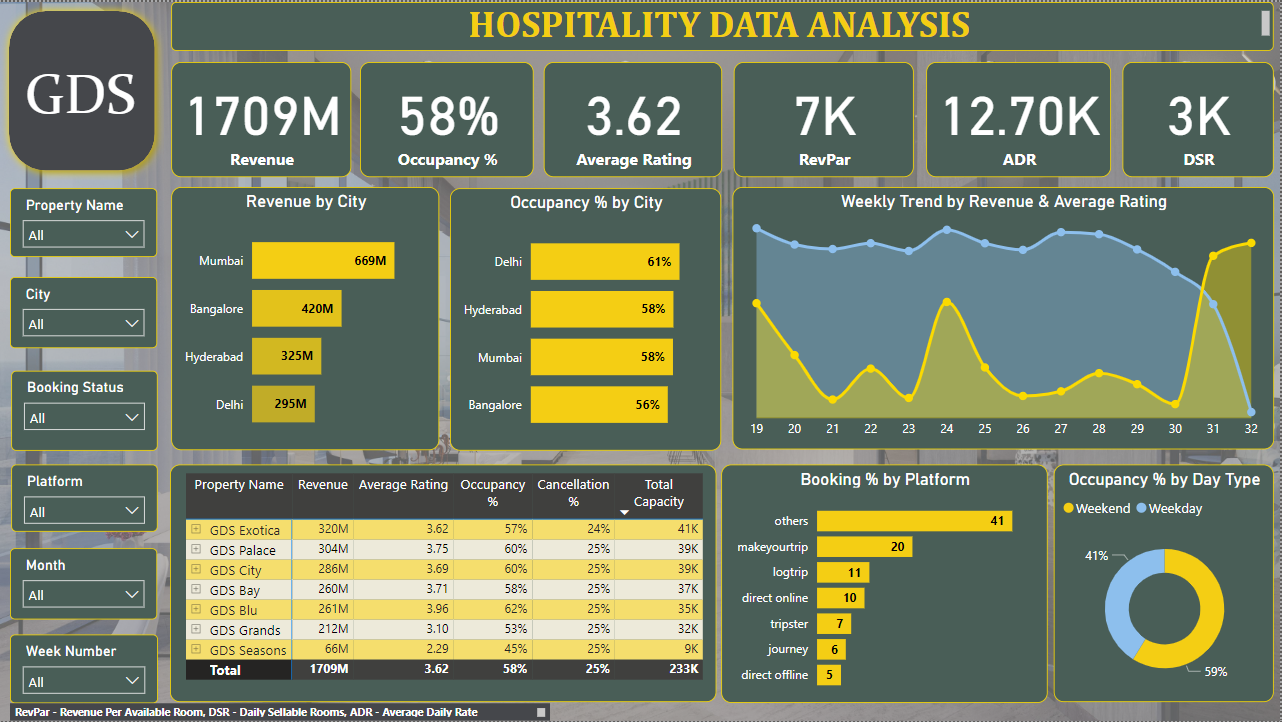

This screenshot's page, from the dashboard's own definition file:
{"tool":"powerbi","page":{"name":"Page 2","canvas":[1280,720],"ordinal":1},"visuals":[{"type":"slicer","fields":{"Values":["dim_hotels.city"]},"box":[10,275,147.5,71.2],"z":0},{"type":"slicer","fields":{"Values":["fact_bookings.booking_status"]},"box":[11.2,368.8,146.2,80],"z":1000},{"type":"slicer","fields":{"Values":["fact_bookings.booking_platform"]},"box":[11.2,462.5,146.2,67.5],"z":2000},{"type":"slicer","fields":{"Values":["dim_date.mmm yy.Variation.Date Hierarchy.Month"]},"box":[10,546.2,147.5,71.2],"z":3000},{"type":"slicer","fields":{"Values":["dim_date.week_number"]},"box":[10.1,632.7,147.6,68.5],"z":4000},{"type":"card","fields":{"Values":["key_measures.Revenue"]},"box":[171.2,60,180,115],"z":5000},{"type":"card","fields":{"Values":["key_measures.Occupancy %"]},"box":[360,60,173.8,115],"z":6000},{"type":"card","fields":{"Values":["key_measures.Average Rating"]},"box":[543.8,60,178.8,115],"z":7000},{"type":"clusteredBarChart","title":"Revenue by City","fields":{"Category":["dim_hotels.city"],"Y":["key_measures.Revenue"]},"box":[170.9,184.8,268.4,263.3],"z":8000},{"type":"clusteredBarChart","title":"Occupancy % by City","fields":{"Y":["key_measures.Occupancy %"],"Category":["dim_hotels.city"]},"box":[450,186.2,271.2,262.5],"z":9000},{"type":"areaChart","title":"Weekly Trend by Revenue & Average Rating","fields":{"Category":["dim_date.week_number"],"Y":["key_measures.Revenue"],"Y2":["key_measures.Average Rating"]},"box":[732.5,185,533.8,262.5],"z":10000},{"type":"clusteredBarChart","title":"Booking % by Platform ","fields":{"Category":["fact_bookings.booking_platform"],"Y":["key_measures.Booking % by platform"]},"box":[708.8,460,326.2,241.2],"z":11000},{"type":"donutChart","title":"Occupancy % by Day Type","fields":{"Y":["key_measures.Occupancy %"],"Category":["dim_date.Weekend"]},"box":[1046.2,458.8,220,241.2],"z":12000},{"type":"pivotTable","fields":{"Rows":["dim_hotels.property_name","dim_hotels.city"],"Values":["key_measures.Revenue","key_measures.Average Rating","key_measures.Occupancy %","key_measures.Cancellation Rate","key_measures.Total Capacity"]},"box":[171.2,461.2,527.5,241.2],"z":13000},{"type":"slicer","fields":{"Values":["dim_hotels.property_name"]},"box":[10,186.2,147.5,68.8],"z":14000},{"type":"textbox","box":[171.2,0,1096.2,48.8],"z":15000},{"type":"card","fields":{"Values":["key_measures.Revenue Per Available Room"]},"box":[733.8,60,180,115],"z":16000},{"type":"card","fields":{"Values":["key_measures.Average Daily Rate"]},"box":[926.2,60,185,115],"z":17000},{"type":"card","fields":{"Values":["key_measures.Daily Sellable Room"]},"box":[1122.5,60,143.8,115],"z":18000},{"type":"shape","box":[0,0,163.8,177.5],"z":19000},{"type":"textbox","box":[20,52.5,132.5,102.5],"z":20000},{"type":"textbox","box":[10,701.2,540,18.8],"z":20001}]}

Visuals, with their boxes in screenshot pixels (x1, y1, x2, y2), scaled from the page's 1280x720 canvas onto the 1282x722 screenshot:
slicer - dim_hotels.city: 10 276 158 347
slicer - fact_bookings.booking_status: 11 370 158 450
slicer - fact_bookings.booking_platform: 11 464 158 531
slicer - dim_date.mmm yy.Variation.Date Hierarchy.Month: 10 548 158 619
slicer - dim_date.week_number: 10 634 158 703
card - key_measures.Revenue: 171 60 352 175
card - key_measures.Occupancy %: 361 60 535 175
card - key_measures.Average Rating: 545 60 724 175
"Revenue by City" clusteredBarChart: 171 185 440 449
"Occupancy % by City" clusteredBarChart: 451 187 722 450
"Weekly Trend by Revenue & Average Rating" areaChart: 734 186 1268 449
"Booking % by Platform " clusteredBarChart: 710 461 1037 703
"Occupancy % by Day Type" donutChart: 1048 460 1268 702
pivotTable - dim_hotels.property_name x dim_hotels.city: 171 462 700 704
slicer - dim_hotels.property_name: 10 187 158 256
textbox: 171 0 1269 49
card - key_measures.Revenue Per Available Room: 735 60 915 175
card - key_measures.Average Daily Rate: 928 60 1113 175
card - key_measures.Daily Sellable Room: 1124 60 1268 175
shape: 0 0 164 178
textbox: 20 53 153 155
textbox: 10 703 551 721
